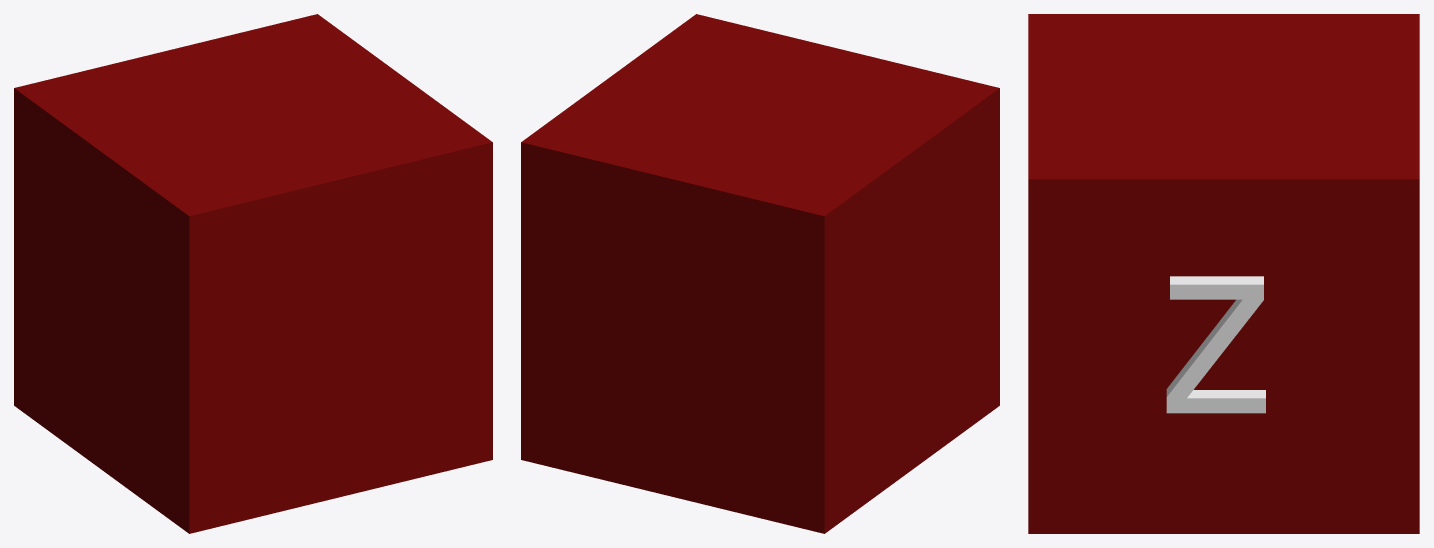
3 renders of one model, left to right at view 1: azimuth 30°, elevation 25°; view 2: azimuth 150°, elevation 25°; view 3: azimuth 270°, elevation 25°, orthographic. The views are drawn at different scales.
Parts seen in each view (by area): view 1: SketchUp; view 2: SketchUp; view 3: SketchUp, Z.
Boxes of the visible parts, x1=… form: SketchUp: x1=14, y1=14, x2=492, y2=533; SketchUp: x1=521, y1=14, x2=999, y2=533; SketchUp: x1=1028, y1=14, x2=1419, y2=533; Z: x1=1166, y1=276, x2=1265, y2=413.
Bounding box in the file's own units: 21 × 20 × 20.
